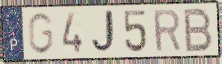4: (61, 11, 85, 55)
5: (123, 8, 149, 54)
B: (183, 7, 214, 54)
G: (26, 11, 55, 56)
J: (90, 8, 119, 56)
R: (151, 7, 183, 54)
